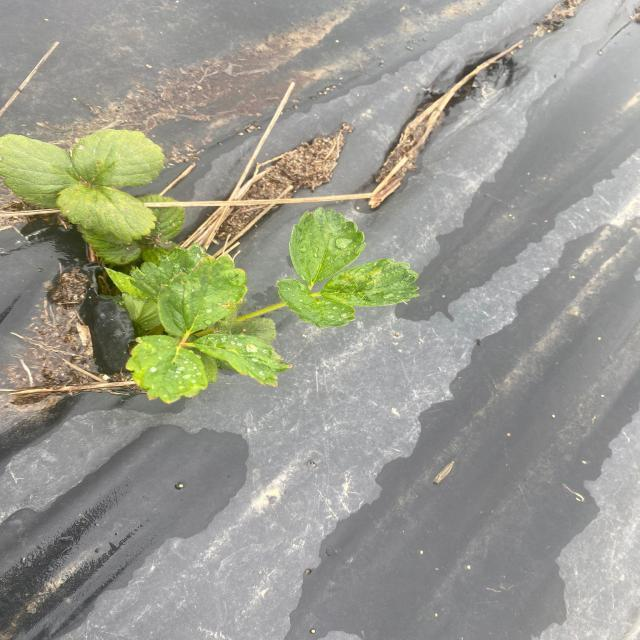flower: (0, 127, 287, 407)
